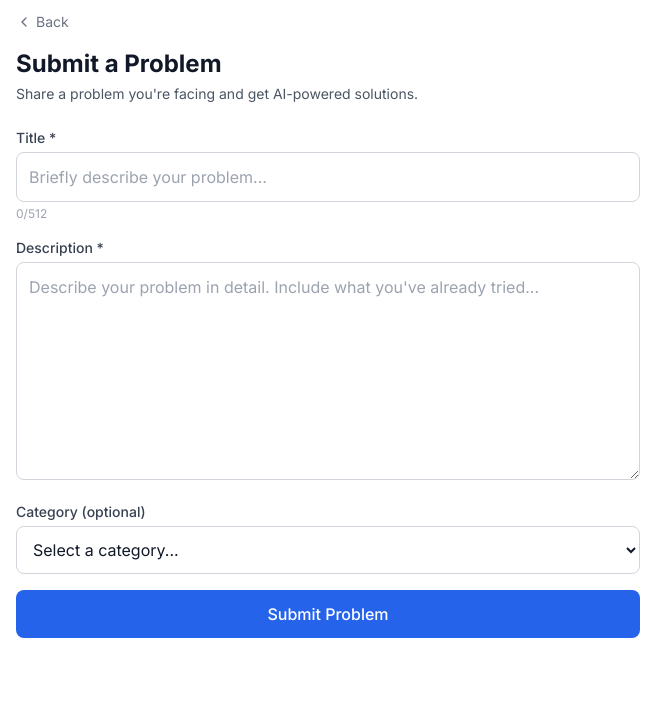
SubmitProblemPage — client-side validation › shows an error when the description is too short (< 20 chars)
Type "A valid title that is long enough" into the field with placeholder "Briefly describe your problem..." at (328, 177), box x1=16 y1=152 x2=640 y2=202
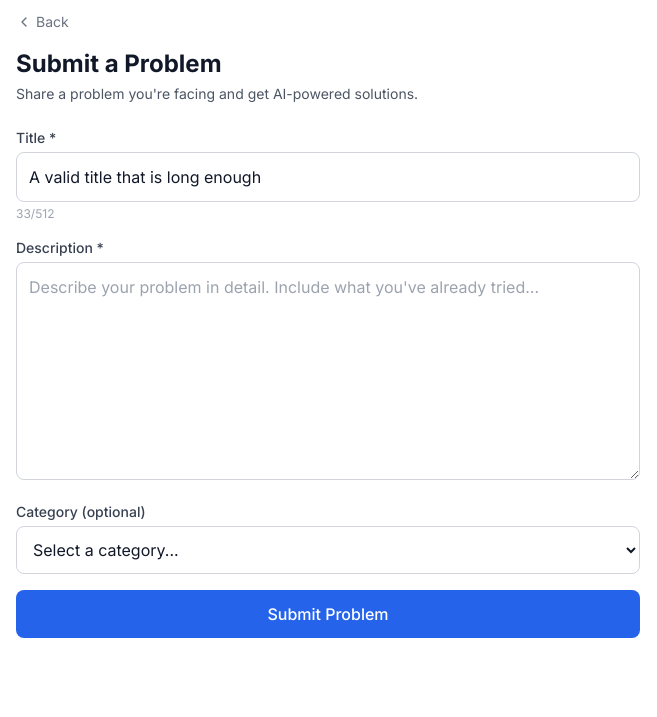
Replace the text in the text box with placeholder "Describe your problem in detail" with "Too short" at (328, 371), box x1=16 y1=262 x2=640 y2=480
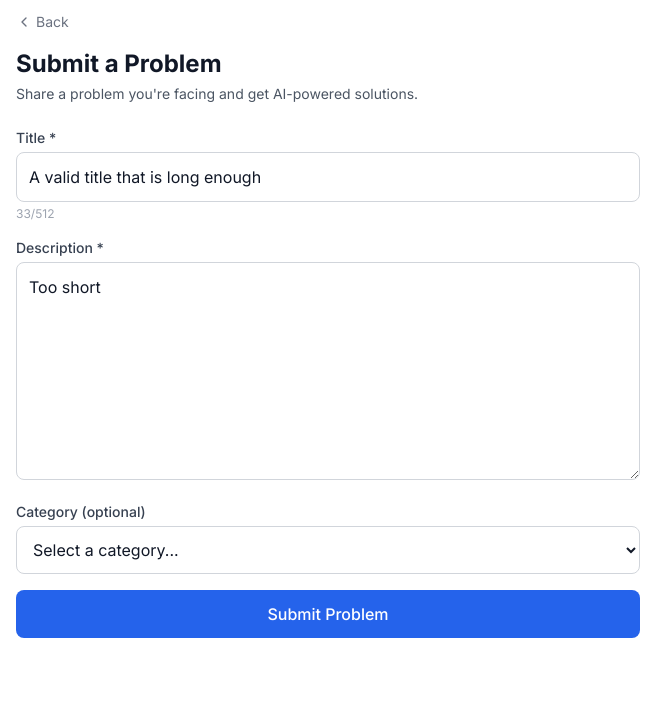
Click the button "Submit Problem" at (328, 614), box x1=16 y1=590 x2=640 y2=638
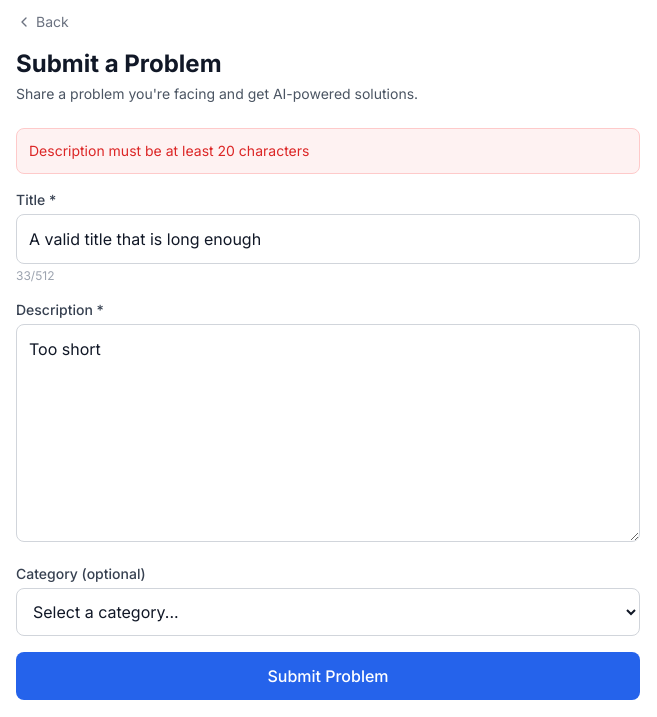
Result: the text "Description must be at least 20 characters" is shown at x1=16 y1=128 x2=640 y2=174
